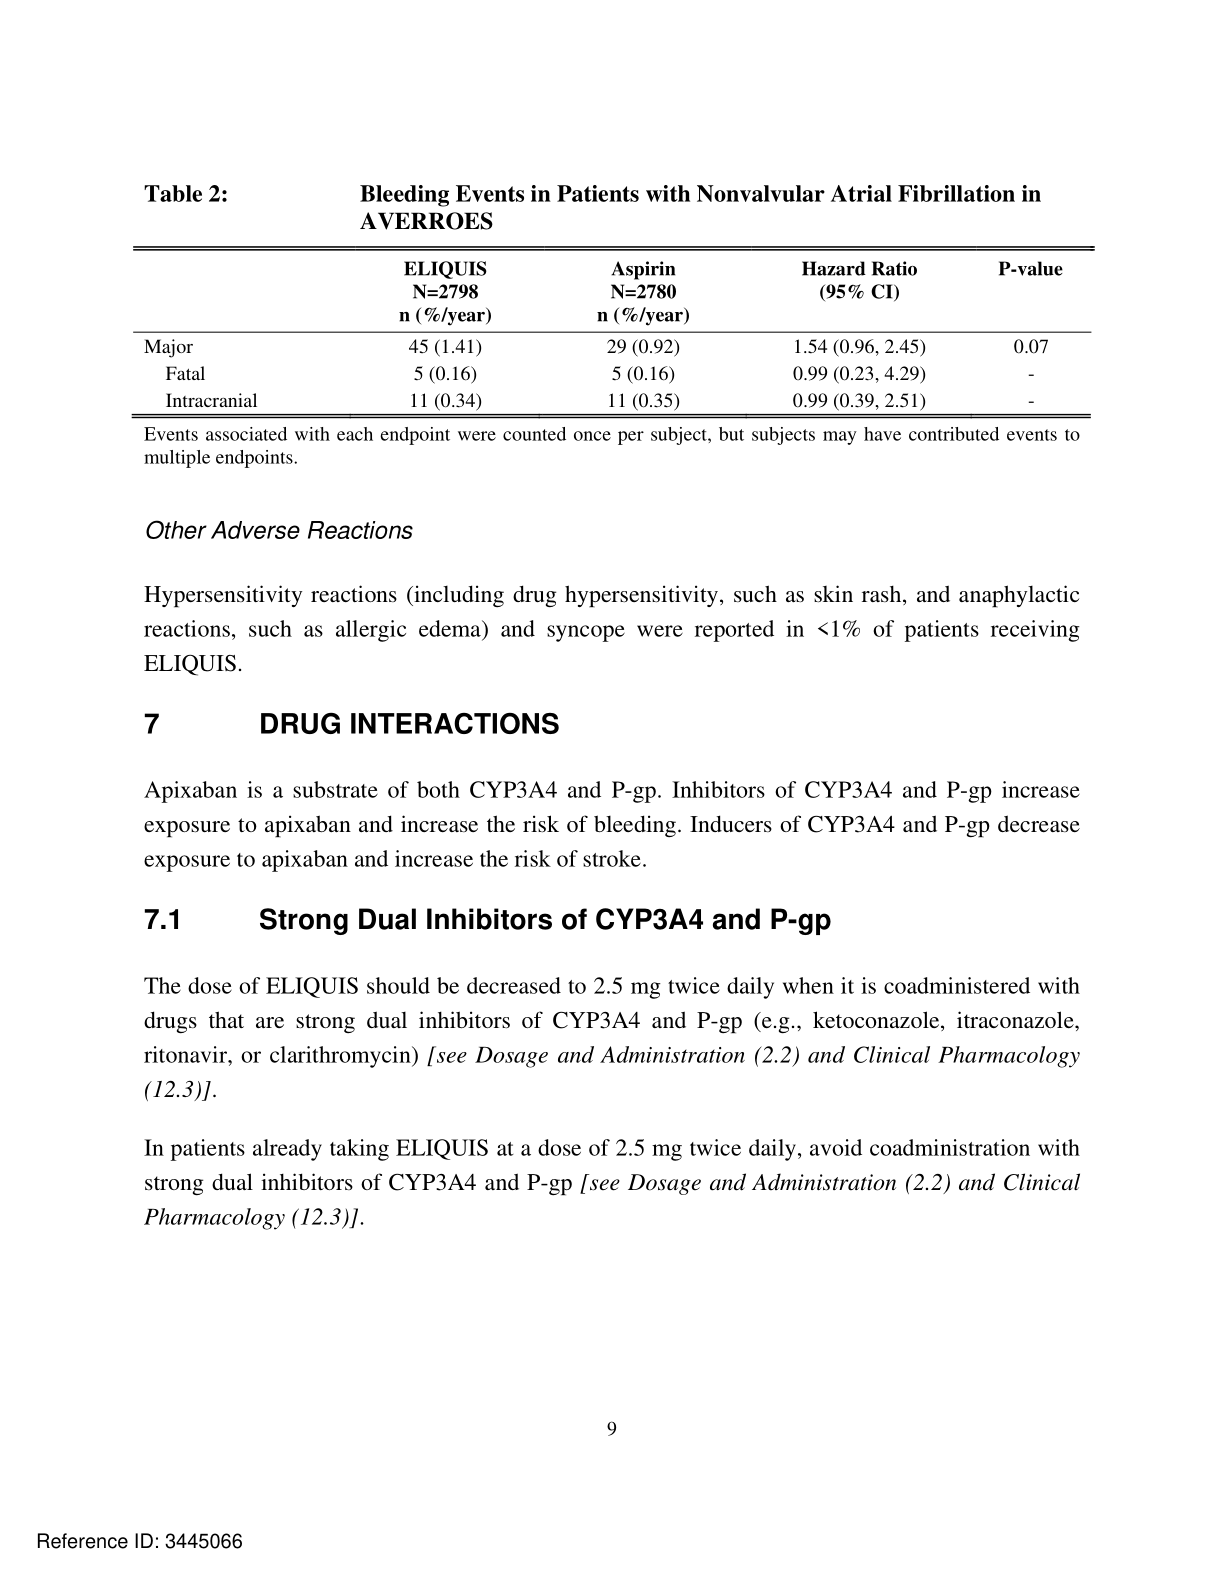partial_lined: (132, 243, 1095, 422)
